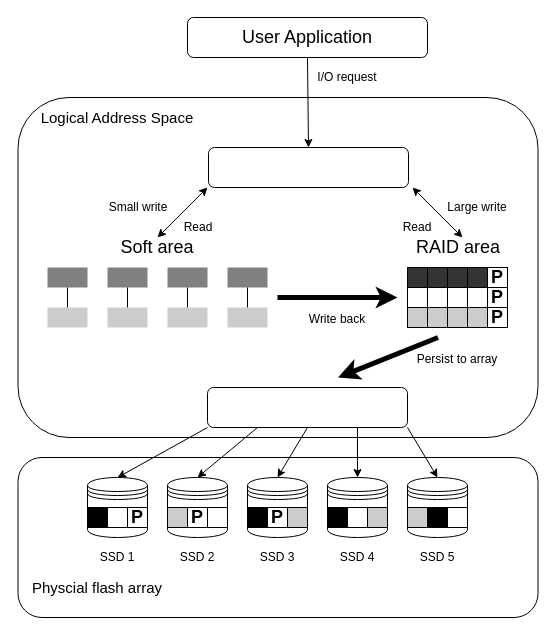
Image size: 555x635. Some labels were removed from this diagram. The box of each missing label's shape, as (x1, y1, x2, y2) in pixels:
Block distributor: (206, 386, 408, 428)
I/O request classifier: (208, 146, 408, 188)
